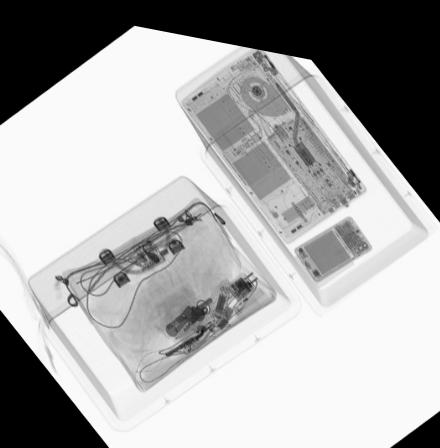Lighter: (229, 274, 264, 305)
